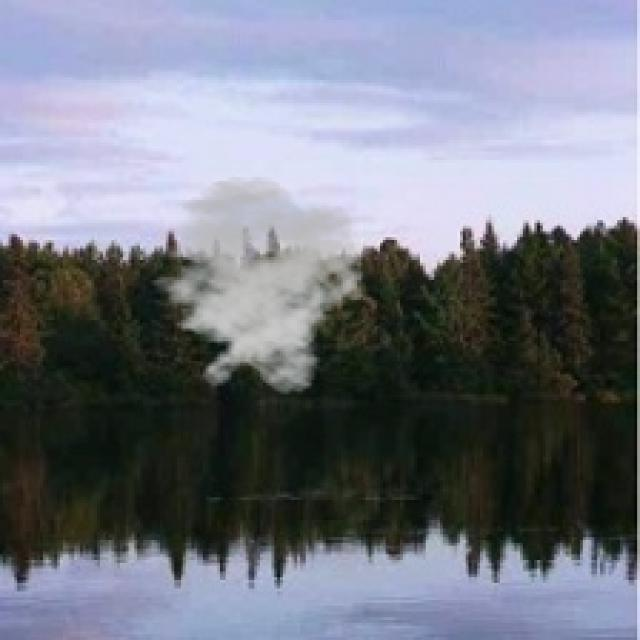smoke: (137, 174, 374, 397)
